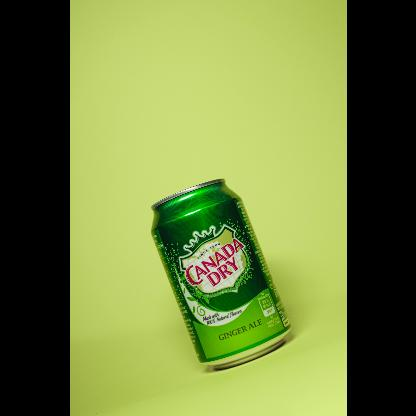Tin_Can: (144, 174, 296, 384)
